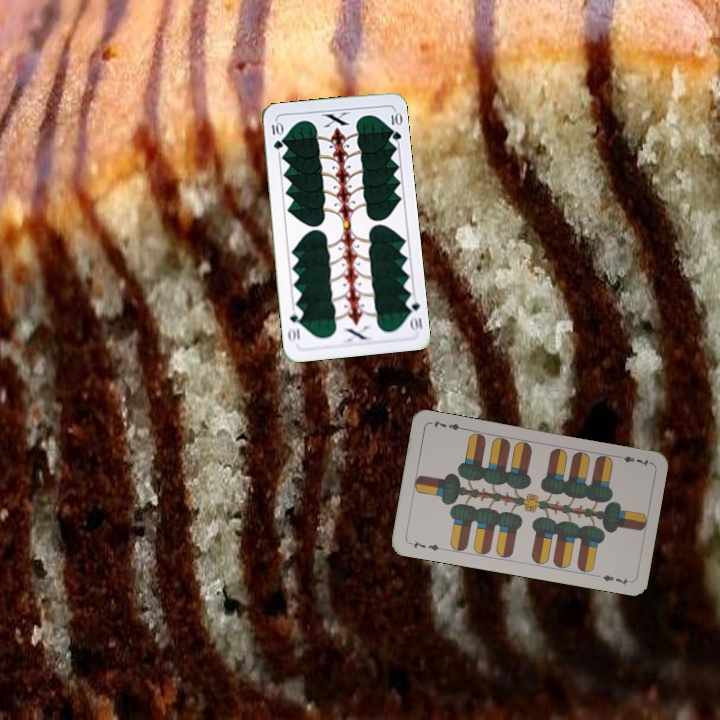E7: (406, 536, 446, 554), (612, 452, 652, 469)
G10: (402, 294, 425, 334), (268, 118, 285, 152)
